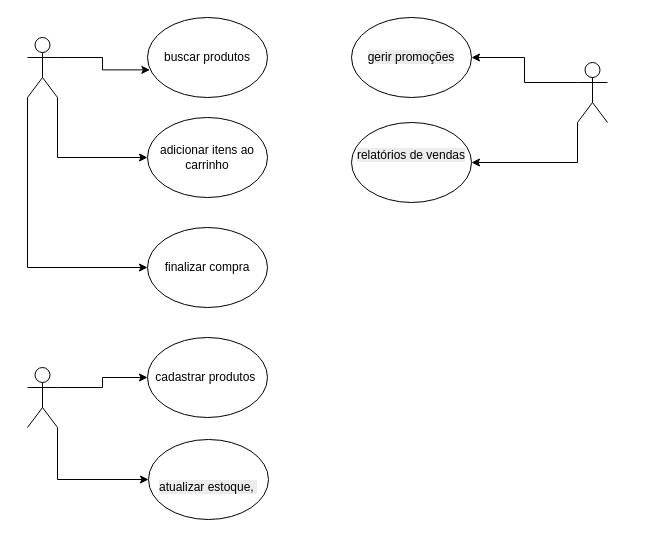
Image size: 646x537. Some labels were removed from this diagram. Here are the shapes that lost their labels. From the top down, the centre of each, then its label:
At [42,67]: "Cliente".
At [592,92]: "Administrador".
At [42,397]: "vendedor".
